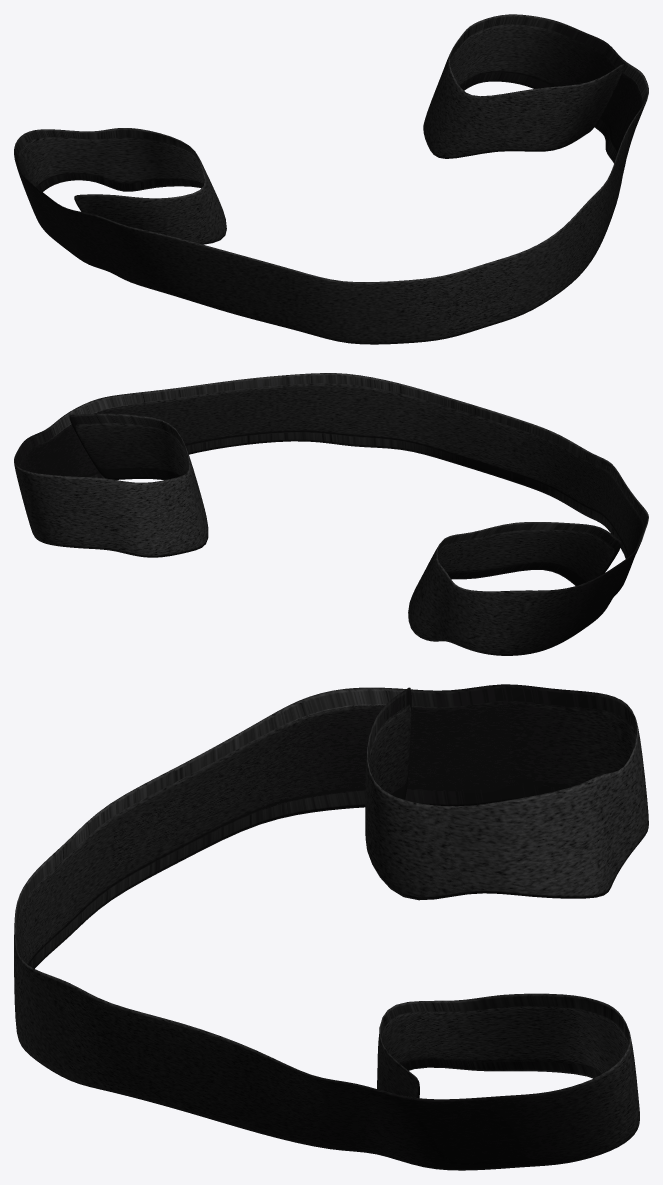
File: rubberband.gltf
3 views of the same model, one above another, from view 1: azimuth 30°, elevation 25°; view 2: azimuth 150°, elevation 25°; view 3: azimuth 270°, elevation 25° (orthographic). The views are drawn at different scales.
Parts seen in each view (by area): view 1: RubberBand HighRes; view 2: RubberBand HighRes; view 3: RubberBand HighRes.
Boxes of the visible parts, x1,y1,x2,y2 form: RubberBand HighRes: (14,14,648,344); RubberBand HighRes: (14,373,648,655); RubberBand HighRes: (14,684,648,1170).
Size of the model in its own units: 0.8517 by 0.1462 by 0.5643.
Materials: 1 (1 with a texture image).
